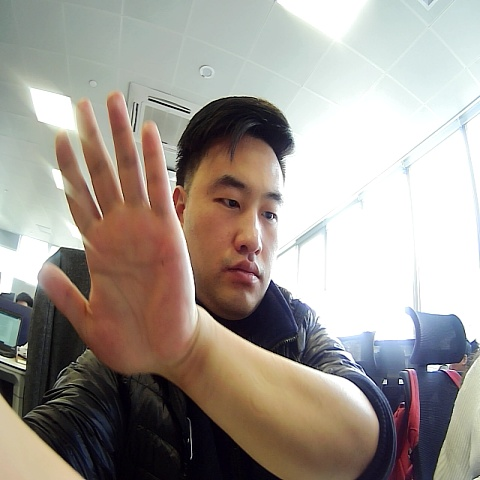palm: (41, 90, 201, 382)
